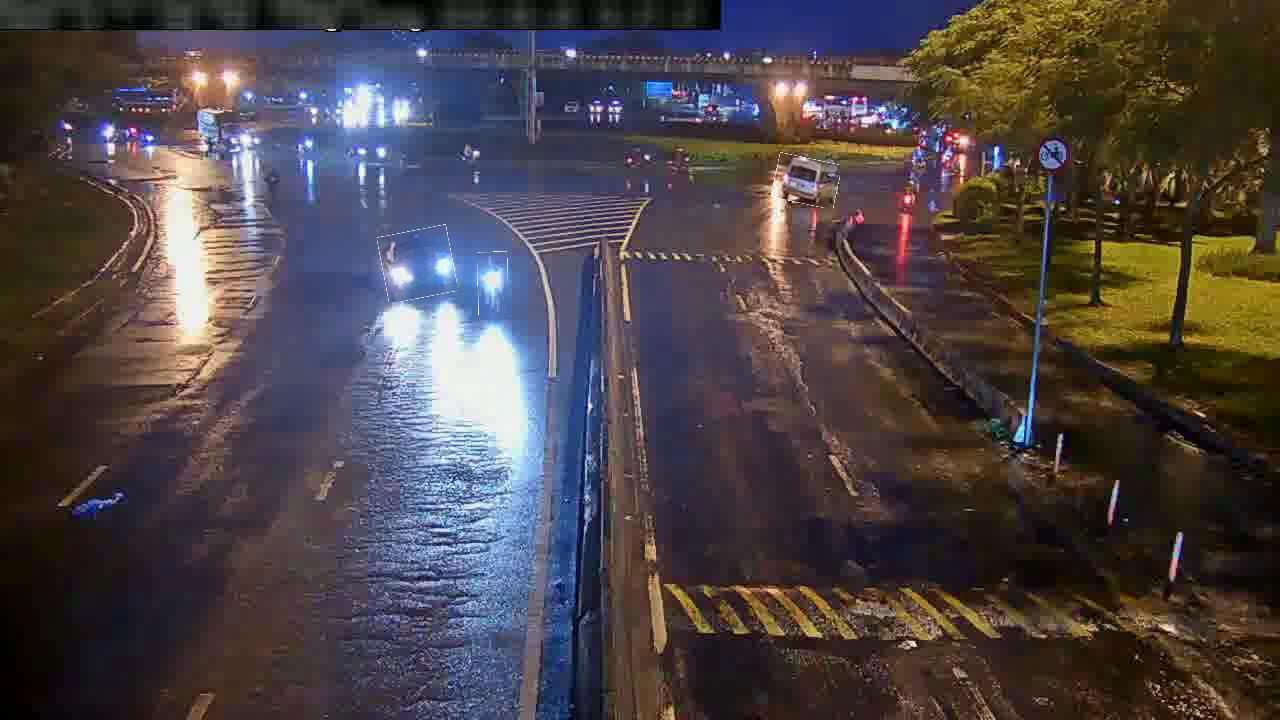14: (773, 155, 840, 206)
container: (380, 227, 456, 300)
motorbike: (478, 252, 508, 321)
